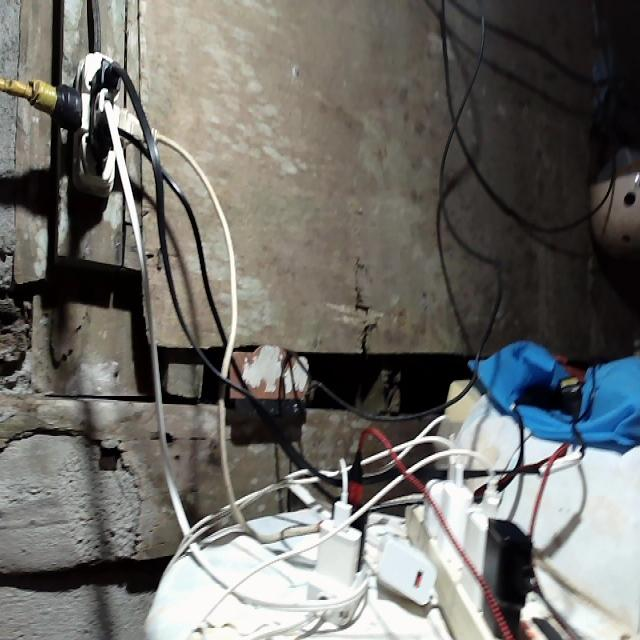-: (39, 45, 149, 200)
